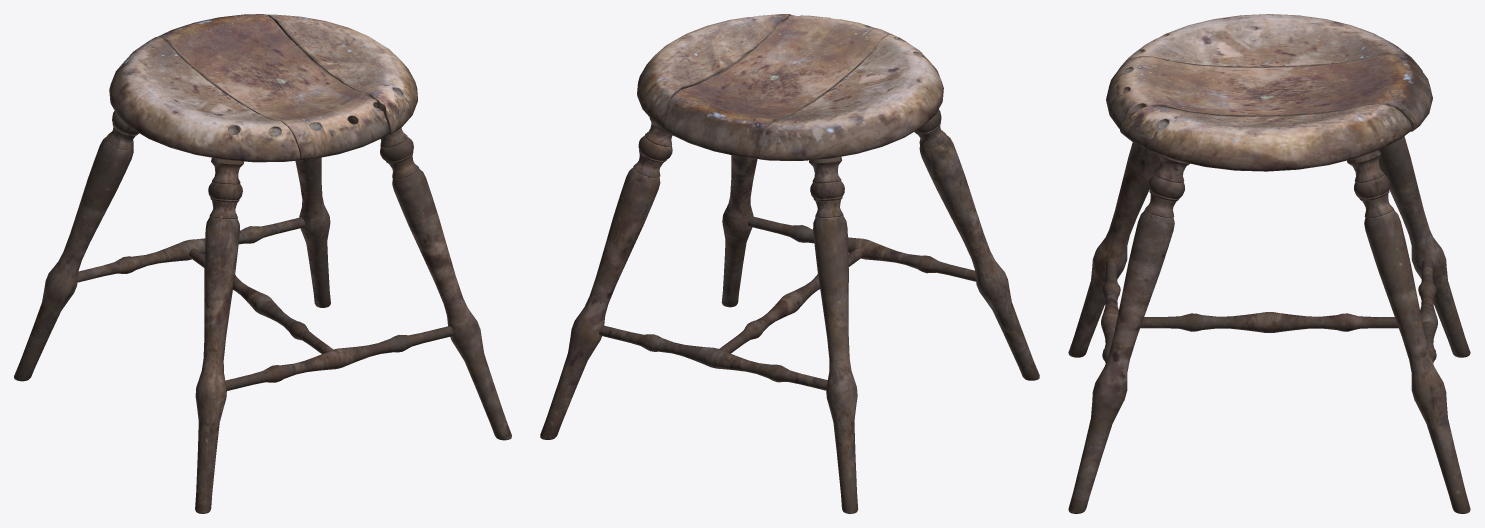
The model's file is stool.glb.
The picture shows the model from 3 angles, left to right: view 1: azimuth 30°, elevation 25°; view 2: azimuth 150°, elevation 25°; view 3: azimuth 270°, elevation 25°; orthographic projection. The views are drawn at different scales.
Visible parts, largest first — view 1: wooden_stool_01; view 2: wooden_stool_01; view 3: wooden_stool_01.
Part boxes in pixels (x1,y1,x2,y2): wooden_stool_01: [14, 14, 511, 513]; wooden_stool_01: [540, 14, 1039, 513]; wooden_stool_01: [1068, 14, 1470, 513].
Bounding box in the file's own units: 3.42 × 3.52 × 3.56.
Materials: 1 (1 with a texture image).
